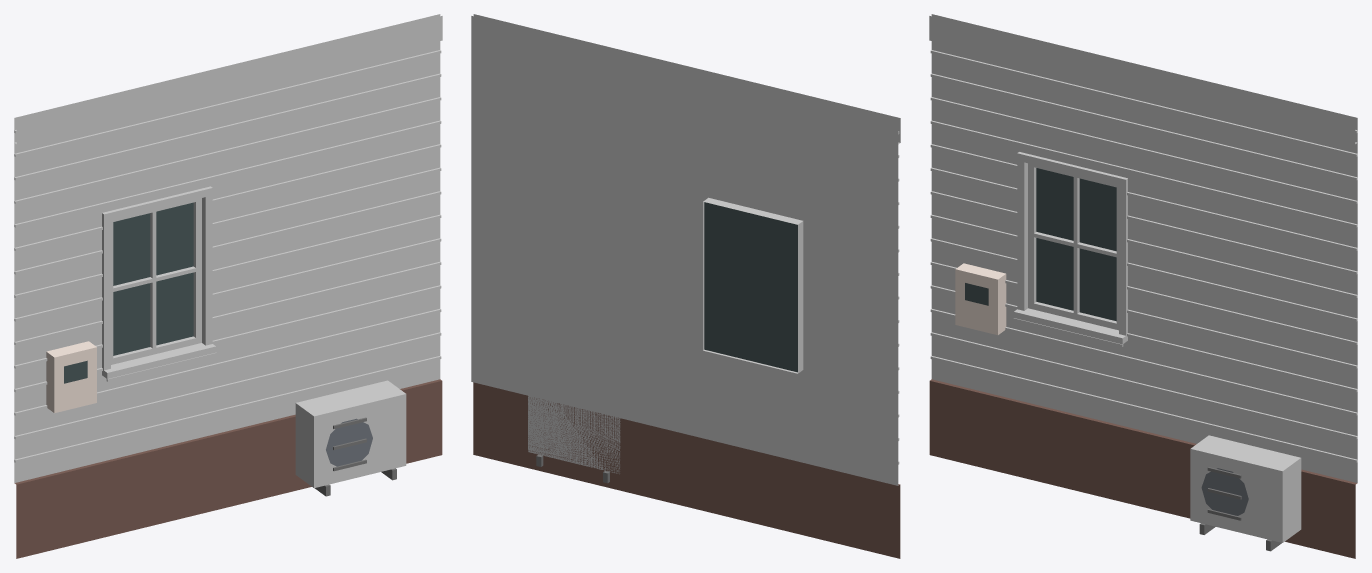
Rendered from base-w2_close.fbx.
3 views of the same model, side by side, from view 1: azimuth 30°, elevation 25°; view 2: azimuth 150°, elevation 25°; view 3: azimuth 330°, elevation 25° (orthographic).
Visible parts, largest first — view 1: a2000/600/base-w2_close; view 2: a2000/600/base-w2_close; view 3: a2000/600/base-w2_close.
Part boxes in pixels (<box>): a2000/600/base-w2_close: <box>14,14,442,558</box>; a2000/600/base-w2_close: <box>471,14,900,558</box>; a2000/600/base-w2_close: <box>929,14,1357,558</box>.
Size of the model in its own units: 3.6 by 3.55 by 0.4.
